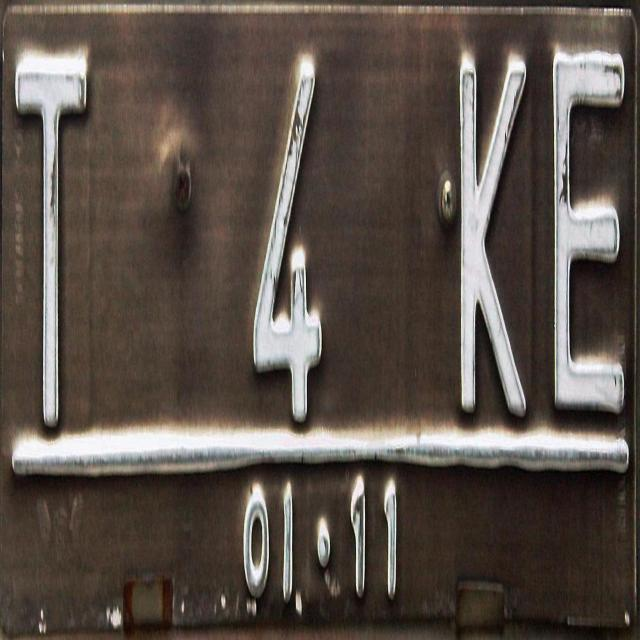4: (250, 44, 327, 424)
E: (548, 38, 628, 426)
K: (452, 47, 534, 428)
T: (11, 48, 92, 434)
